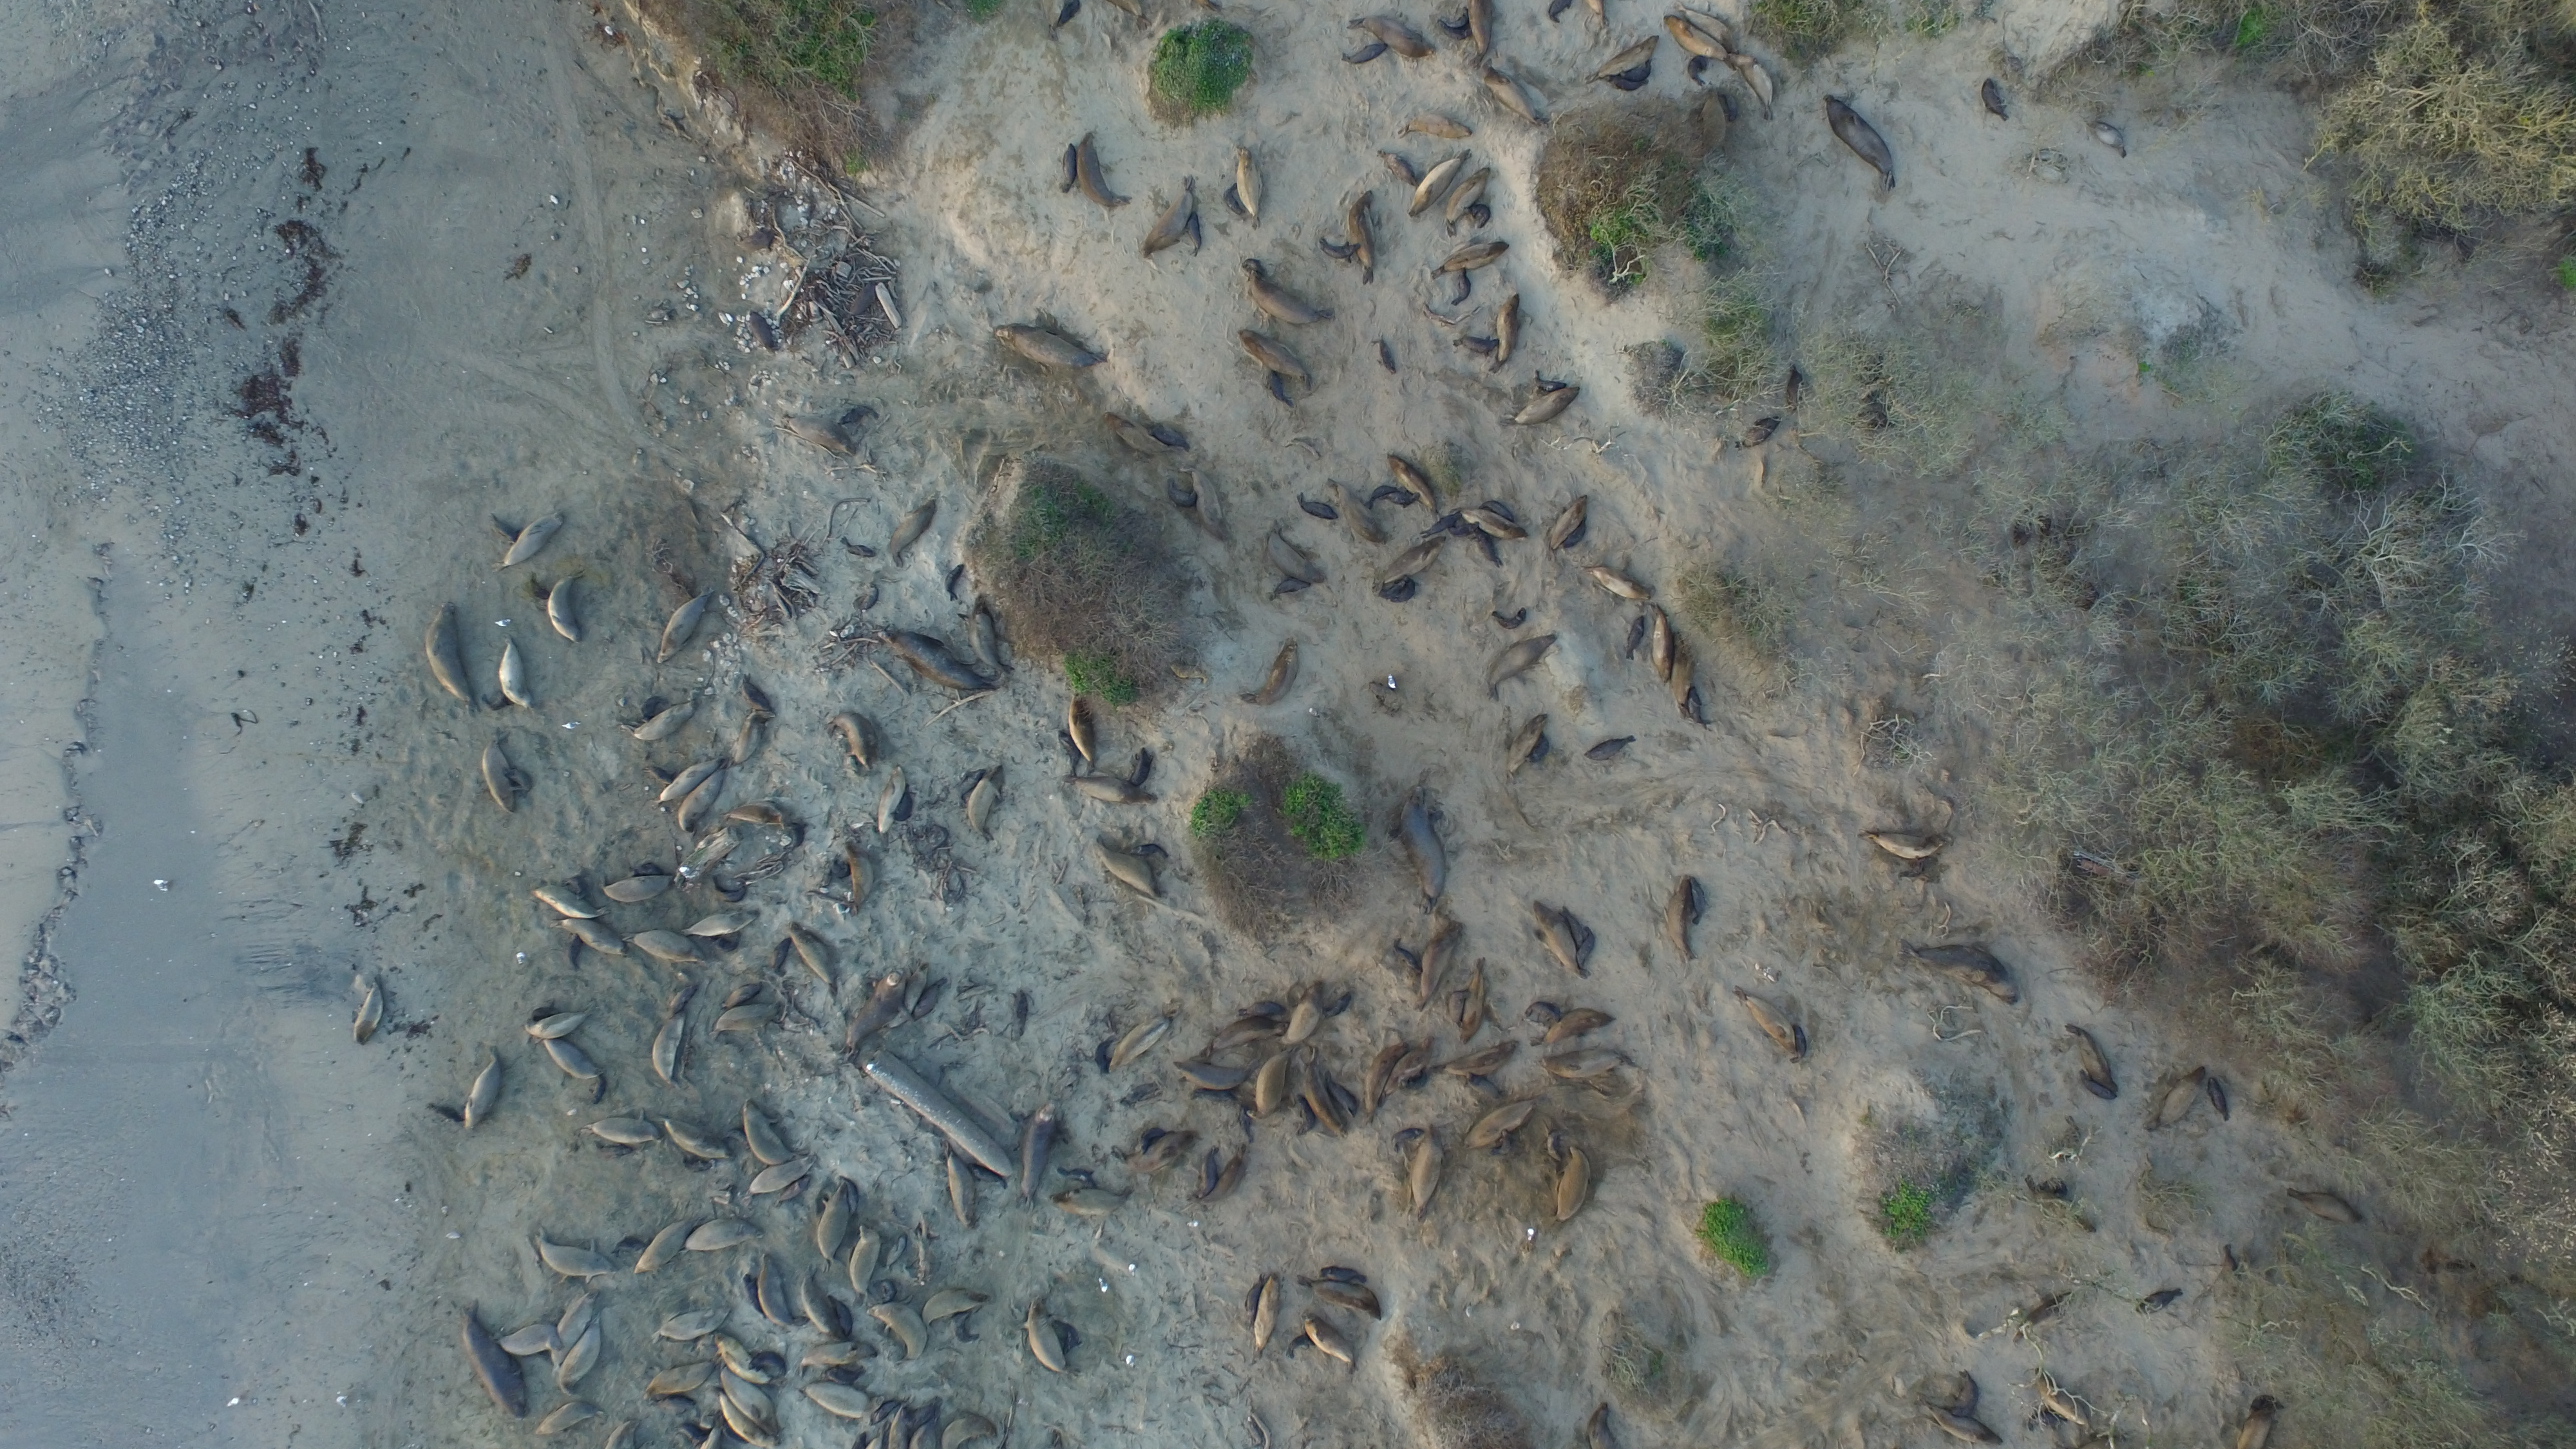adult male: (1895, 934, 2029, 1016), (451, 1288, 529, 1426), (977, 313, 1127, 380), (1389, 777, 1451, 916), (1812, 96, 1902, 191), (870, 625, 978, 694), (425, 610, 479, 713), (1014, 1099, 1058, 1207), (858, 971, 901, 1058)
male juvenile / female juvenile / adult female: (1237, 324, 1329, 396), (520, 1230, 616, 1290), (2033, 1357, 2109, 1431), (1723, 982, 1792, 1060), (2277, 1175, 2371, 1230), (1253, 639, 1309, 729), (1483, 62, 1553, 131), (1017, 1293, 1069, 1385), (955, 600, 1016, 678), (1083, 833, 1152, 901), (1723, 50, 1783, 126), (1247, 276, 1339, 326), (1918, 1398, 2006, 1449), (1111, 1007, 1178, 1074), (1481, 637, 1575, 685), (1343, 14, 1437, 60), (870, 1302, 932, 1371), (1079, 131, 1129, 216), (663, 1113, 741, 1164), (773, 407, 851, 458), (1323, 474, 1382, 541), (787, 916, 839, 993), (1525, 902, 1576, 978), (660, 598, 722, 660), (1069, 775, 1157, 817), (1859, 821, 1955, 860), (1185, 467, 1235, 541), (467, 736, 513, 816), (1385, 448, 1438, 517), (1348, 188, 1385, 285), (740, 1097, 796, 1161), (1267, 524, 1330, 580), (1387, 103, 1476, 142), (2059, 1014, 2112, 1077), (1302, 1279, 1389, 1318), (1145, 173, 1185, 255), (552, 563, 591, 646), (467, 1046, 504, 1131), (557, 1329, 610, 1387), (1412, 1116, 1442, 1219), (1461, 1104, 1534, 1146), (1299, 1056, 1338, 1134), (541, 1040, 616, 1081), (688, 1215, 770, 1253), (1067, 694, 1104, 773), (803, 1380, 876, 1421), (2153, 1063, 2206, 1118), (1415, 159, 1472, 211), (844, 839, 879, 920), (757, 1256, 798, 1327), (1580, 564, 1652, 603), (1300, 1311, 1355, 1362), (525, 883, 603, 918), (1237, 150, 1272, 228), (492, 632, 543, 685), (832, 713, 881, 768), (1051, 1192, 1136, 1224), (717, 1392, 764, 1449), (1203, 1017, 1288, 1049), (1681, 4, 1744, 46), (796, 1270, 833, 1343), (916, 1283, 993, 1318), (1099, 412, 1157, 458), (350, 980, 391, 1046), (1468, 955, 1500, 1039), (579, 1115, 660, 1146), (625, 931, 706, 962), (1169, 1054, 1251, 1086), (1532, 1051, 1637, 1076), (901, 495, 938, 564), (971, 757, 1001, 842), (1555, 1143, 1587, 1223), (722, 1369, 777, 1415), (621, 713, 709, 741), (1375, 541, 1458, 571), (639, 1357, 713, 1391), (1456, 506, 1530, 540), (642, 1212, 681, 1274), (1660, 18, 1721, 57), (948, 1141, 975, 1231), (1667, 872, 1693, 962), (538, 1399, 609, 1433), (656, 1306, 734, 1336), (1456, 168, 1499, 223), (1502, 708, 1539, 770), (548, 924, 628, 952), (1520, 384, 1580, 421), (1254, 1053, 1288, 1118), (1284, 982, 1322, 1040), (656, 1012, 685, 1088), (1591, 37, 1661, 67), (605, 876, 679, 904), (1428, 239, 1525, 260), (855, 1221, 881, 1295), (1364, 1035, 1389, 1115), (520, 511, 566, 554), (1125, 1136, 1198, 1162), (1467, 0, 1500, 55), (715, 1007, 789, 1031), (1440, 1049, 1527, 1070), (1430, 925, 1451, 1010), (715, 1334, 755, 1378), (561, 1292, 600, 1338), (878, 770, 908, 828), (2240, 1408, 2282, 1449), (821, 1191, 844, 1265), (1545, 1010, 1619, 1033), (740, 715, 775, 763), (1499, 292, 1522, 364), (945, 1414, 994, 1447), (1589, 1399, 1622, 1449), (685, 911, 763, 932), (1674, 639, 1693, 722), (750, 1168, 826, 1189), (502, 1325, 559, 1353), (800, 1343, 890, 1361), (656, 768, 731, 789), (1221, 1139, 1246, 1203), (1258, 1274, 1274, 1364), (1704, 92, 1727, 152), (1652, 603, 1670, 679), (1560, 490, 1585, 543), (729, 801, 786, 823), (1113, 0, 1148, 34), (520, 1021, 586, 1039), (904, 955, 922, 1021), (681, 796, 715, 830), (612, 1415, 644, 1449), (1392, 1049, 1442, 1069), (1585, 0, 1617, 28), (915, 1424, 945, 1449), (890, 1421, 909, 1449), (870, 1428, 886, 1449)
pup: (2134, 1290, 2204, 1316), (1375, 150, 1422, 188), (2024, 1169, 2074, 1205), (743, 310, 780, 356), (1737, 405, 1778, 444), (1948, 1368, 1983, 1412), (2074, 1072, 2123, 1102), (1166, 656, 1215, 686), (738, 672, 777, 709), (2089, 115, 2127, 154), (846, 584, 888, 617), (1976, 76, 2010, 119), (1325, 1072, 1357, 1116), (1391, 938, 1422, 982), (947, 770, 985, 805), (1582, 740, 1637, 764), (1293, 490, 1341, 518), (833, 531, 878, 561), (1003, 989, 1030, 1037), (966, 1161, 1007, 1191), (1132, 743, 1155, 796), (1051, 734, 1079, 777), (736, 228, 778, 257), (2213, 1240, 2242, 1283), (1049, 0, 1085, 34), (425, 1095, 462, 1127), (954, 1316, 984, 1355), (1056, 1164, 1106, 1187), (2010, 495, 2033, 545), (833, 403, 886, 425), (1129, 835, 1171, 862), (2022, 1407, 2065, 1433), (1062, 140, 1079, 202), (1783, 361, 1805, 412), (1313, 235, 1364, 257), (1449, 334, 1500, 356), (1150, 423, 1191, 449), (2024, 165, 2074, 186), (740, 1270, 761, 1318), (483, 511, 518, 540), (2074, 580, 2102, 616), (768, 931, 794, 968), (2206, 1081, 2233, 1118), (1122, 1125, 1164, 1148), (1373, 334, 1398, 373), (1162, 474, 1192, 506), (1058, 1323, 1092, 1352), (2054, 1116, 2082, 1150), (752, 1350, 787, 1376), (1859, 409, 1895, 435), (1345, 42, 1389, 64), (839, 1175, 862, 1215), (1385, 1125, 1426, 1148), (924, 980, 943, 1028), (1191, 1085, 1238, 1104), (1690, 876, 1709, 924), (1330, 993, 1361, 1023), (667, 982, 699, 1010), (653, 1392, 699, 1412), (833, 1295, 856, 1334), (1520, 1001, 1559, 1024), (502, 766, 536, 793), (718, 984, 768, 1001), (1198, 1145, 1215, 1194), (1790, 1016, 1808, 1065), (1688, 688, 1713, 724), (1476, 529, 1500, 564), (1293, 1092, 1315, 1132), (945, 561, 968, 598), (1859, 356, 1890, 384), (1318, 1267, 1371, 1283), (1541, 1129, 1566, 1162), (2038, 513, 2063, 547), (1269, 370, 1292, 405), (1546, 0, 1573, 30), (1244, 1272, 1260, 1322), (2252, 1387, 2284, 1412), (1223, 182, 1246, 216), (1628, 614, 1644, 662), (711, 885, 750, 904), (828, 1362, 867, 1382), (1530, 372, 1569, 391), (672, 1421, 708, 1442), (1088, 1040, 1109, 1076), (1467, 203, 1495, 230), (901, 1398, 931, 1422), (2047, 545, 2079, 568), (1231, 1000, 1283, 1014), (2026, 145, 2066, 163), (1187, 212, 1205, 253), (594, 1141, 628, 1162), (1468, 1070, 1497, 1095), (1861, 391, 1890, 416), (1458, 267, 1476, 306), (892, 1233, 913, 1265), (867, 1398, 899, 1419), (1405, 573, 1426, 605), (1481, 497, 1513, 518), (483, 688, 508, 715), (881, 1277, 906, 1304), (1238, 253, 1265, 278), (1449, 989, 1468, 1023), (678, 1157, 713, 1175), (1564, 909, 1583, 941), (639, 692, 663, 717), (1269, 580, 1311, 594), (522, 1003, 556, 1021), (828, 856, 851, 881), (784, 1185, 810, 1207), (1491, 607, 1527, 623), (566, 938, 586, 966), (1405, 1074, 1433, 1093), (642, 764, 672, 782), (1690, 51, 1707, 81), (522, 575, 547, 596), (610, 1238, 648, 1253), (564, 874, 589, 895), (1428, 513, 1460, 529), (1606, 78, 1647, 90), (630, 860, 660, 876), (1237, 1108, 1251, 1141), (787, 824, 805, 851), (1723, 90, 1737, 122), (591, 1079, 610, 1102), (1904, 860, 1927, 879), (1566, 524, 1582, 550), (1622, 65, 1656, 78), (1290, 1338, 1311, 1357), (1534, 738, 1548, 766), (718, 938, 745, 952), (1500, 1131, 1514, 1157), (1580, 939, 1594, 966), (899, 793, 911, 823), (1368, 487, 1399, 497), (1440, 28, 1472, 39), (1392, 492, 1419, 504), (1382, 584, 1401, 598), (853, 1428, 865, 1449), (1454, 522, 1479, 533), (1451, 12, 1468, 25)
